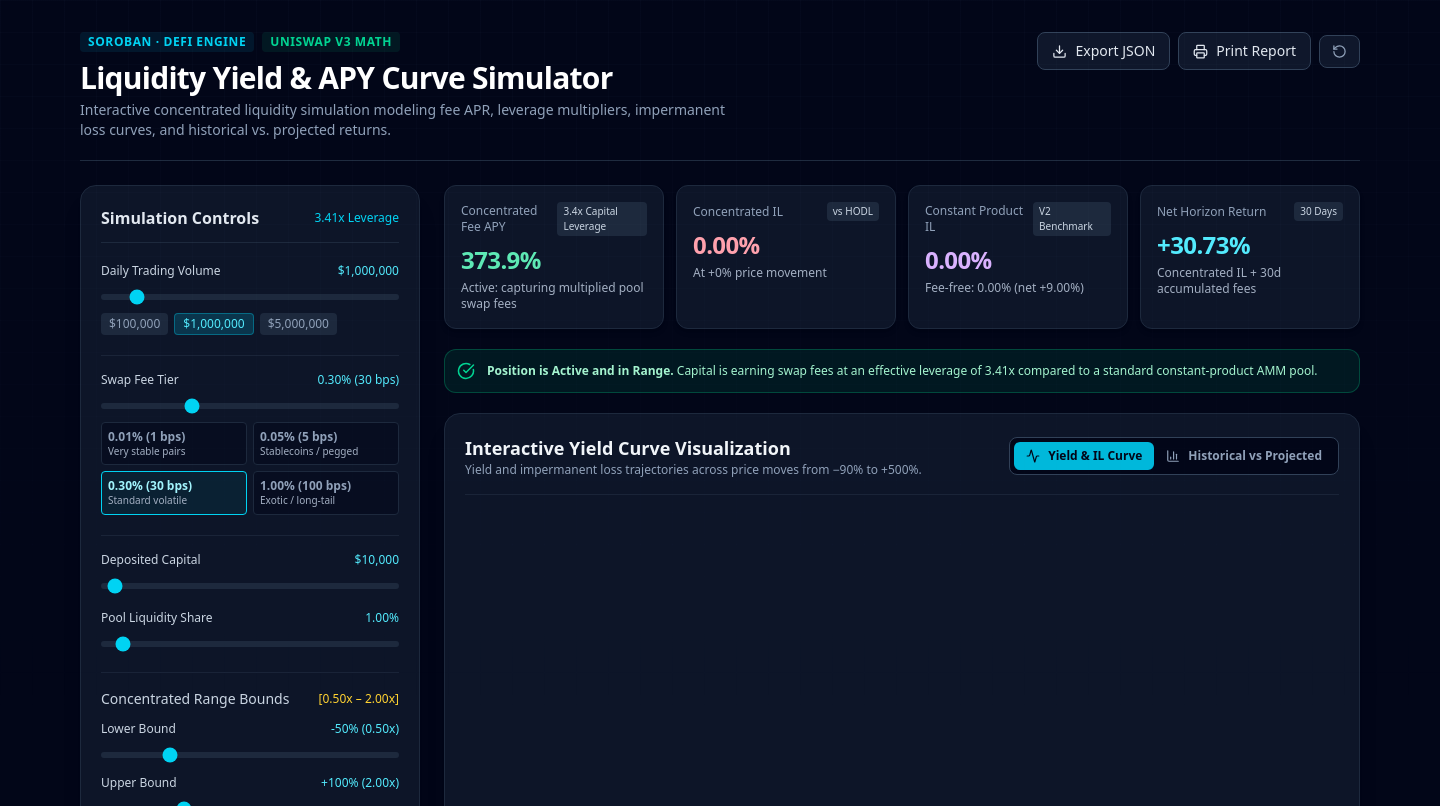
Test: YieldCurveSimulator component › switches between Yield & IL Curve and Historical vs Projected tabs
Click the button "Historical vs Projected" at (1244, 456), box [1154,442,1334,470]
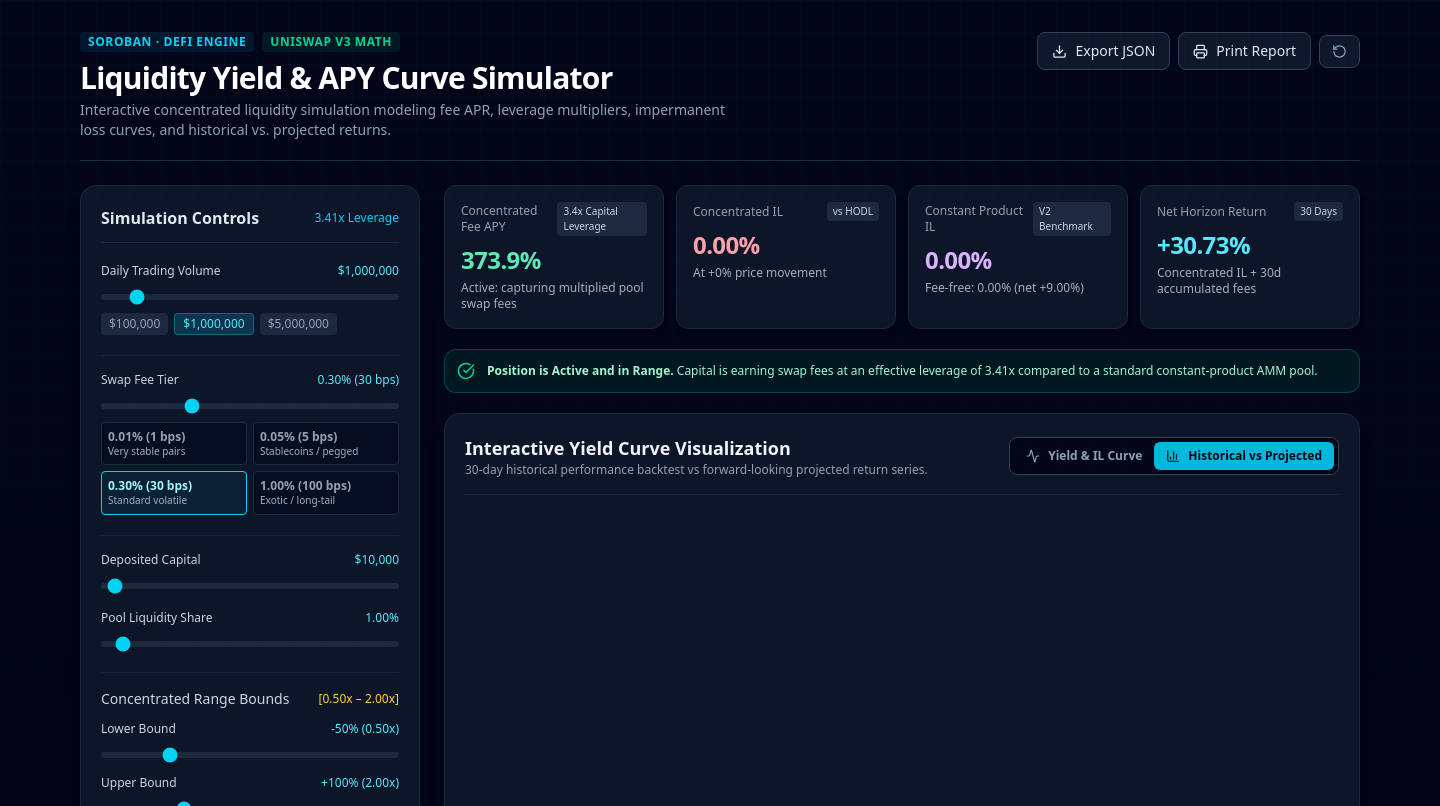
Expected: the text "30-day historical performance backtest vs forward-looking" is shown, [465,461,928,478]
Click the button "Yield & IL Curve" at (1084, 456), box [1014,442,1154,470]
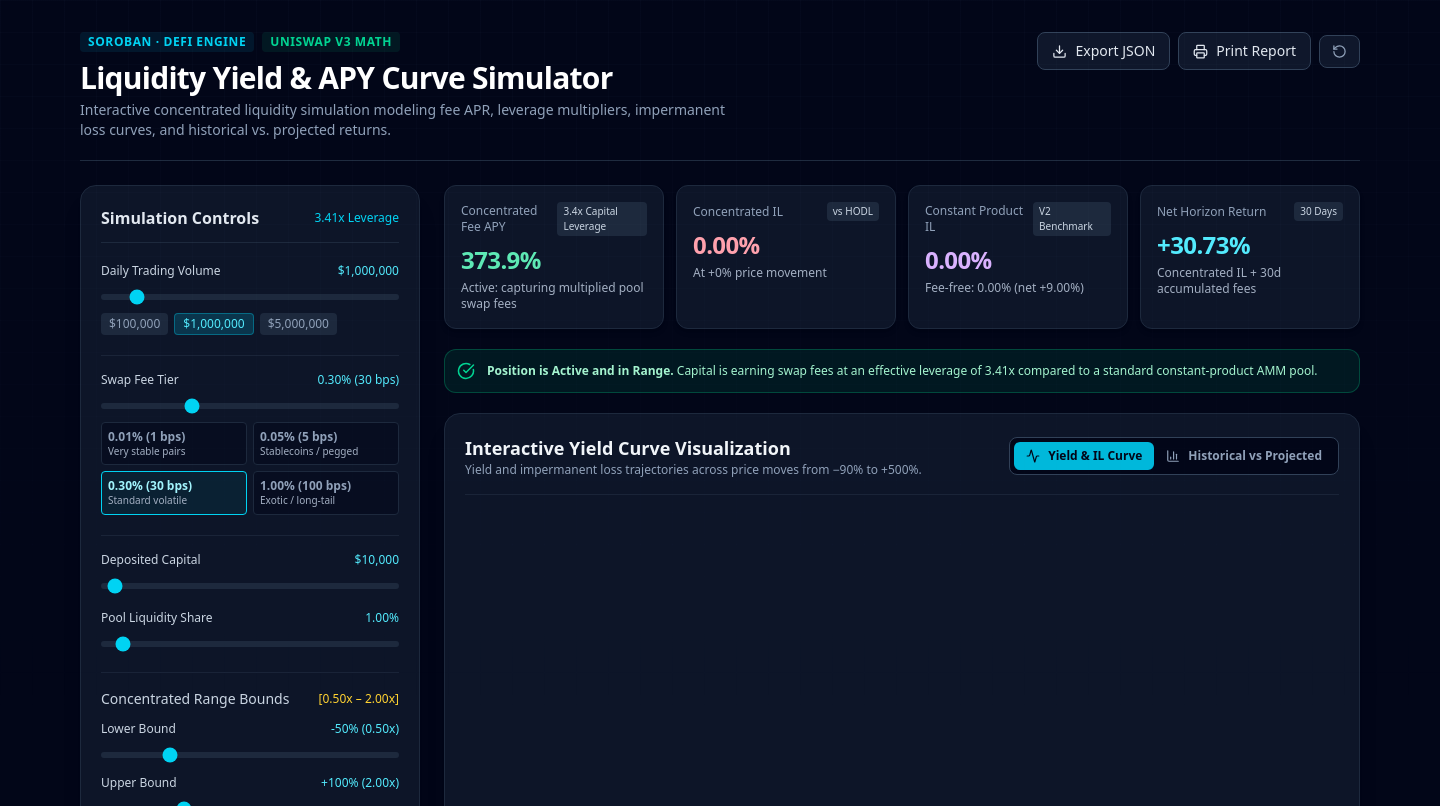
Expected: the text "Yield and impermanent loss trajectories across price moves" is shown, [465,461,922,478]
